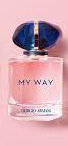armani_my_way_floral: (6, 19, 64, 123)
